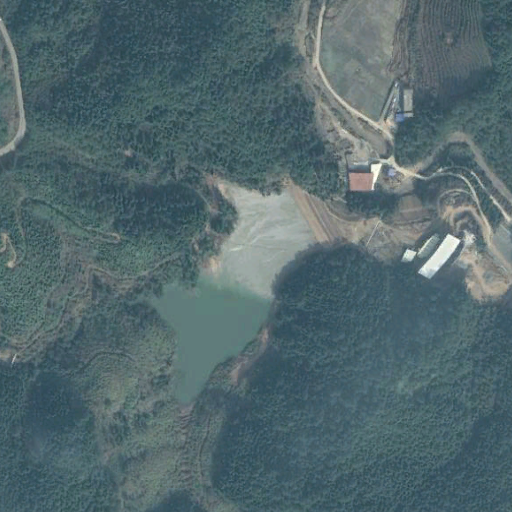tp: (145, 176, 352, 406)
